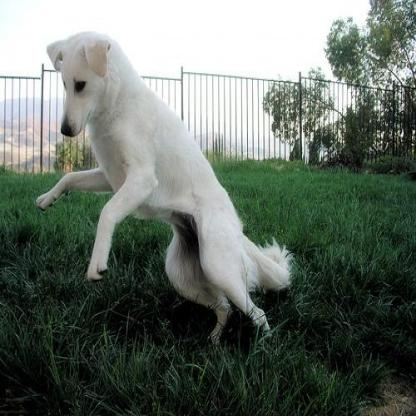kuvasz: (34, 27, 293, 352)
